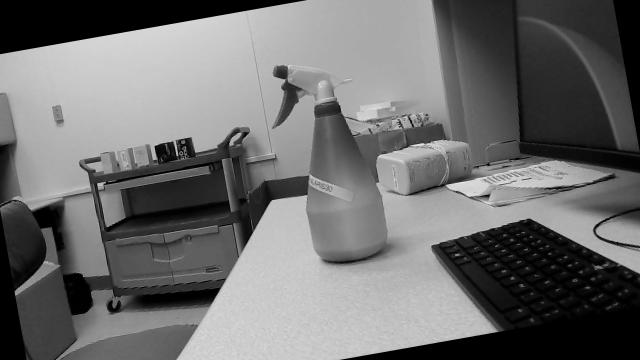AlcoholSpray: (273, 64, 388, 265)
